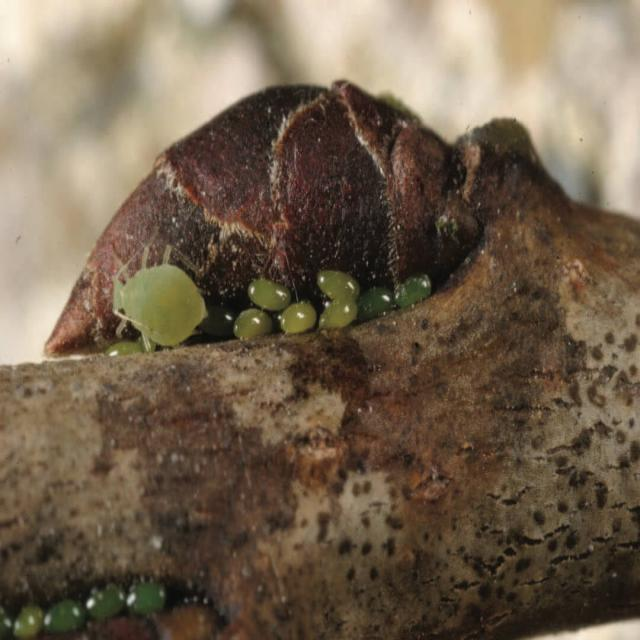Aphid-Grown-: (102, 224, 224, 386)
